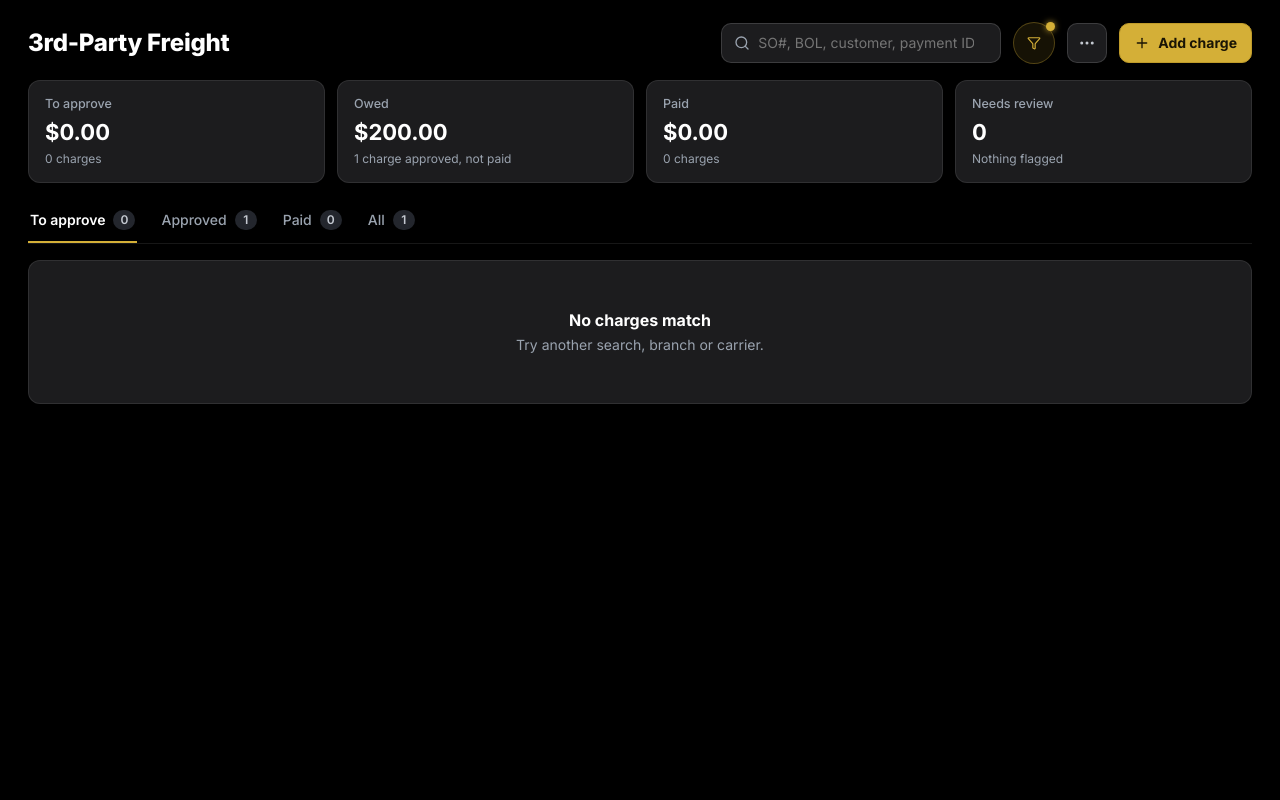
Scenario: 3rd-Party Freight list › shows the tab’s empty state once every branch is picked, and "No charges match" on the home branch
Expected: the heading "No charges match" is shown, [569,310,711,330]
Step 1. Click the button with class "lf-btn" → point(1034, 43), box [1013,22,1055,64]
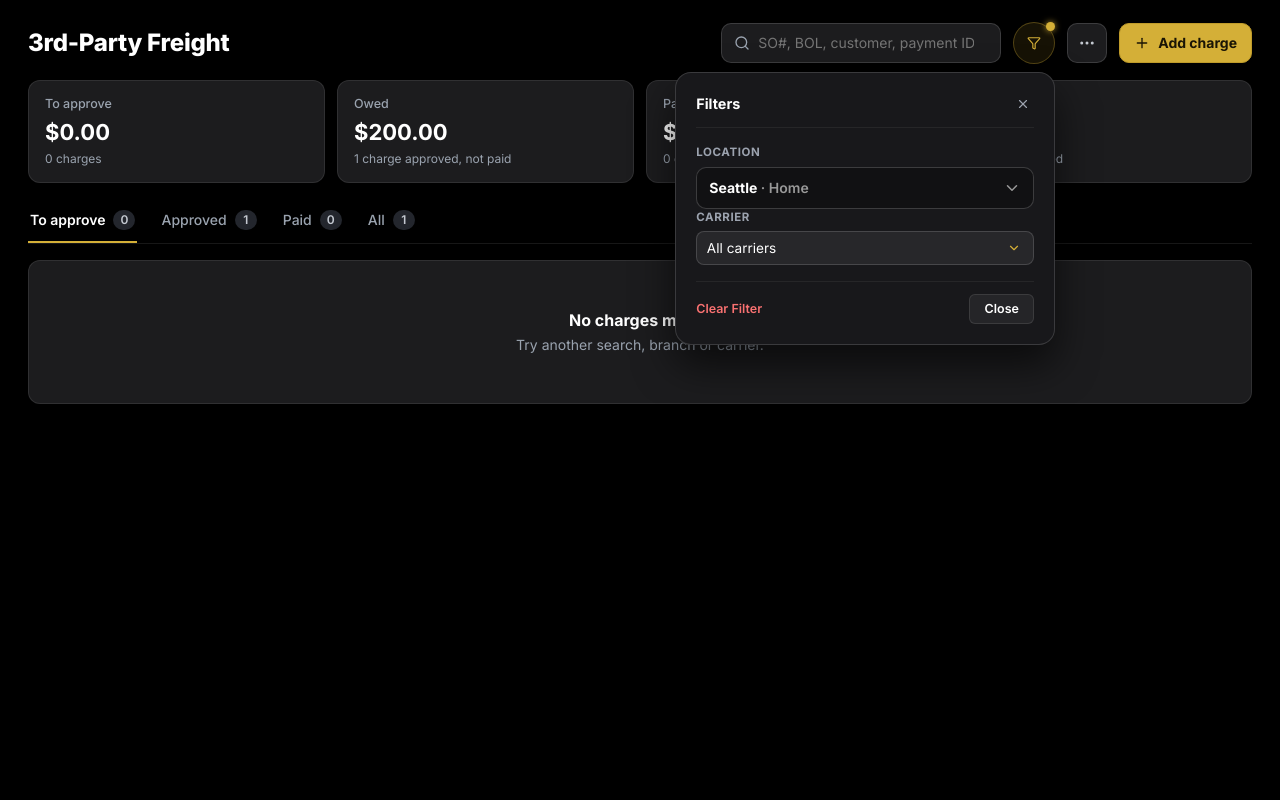
Step 2. Click the button with class "lf-clear" → point(729, 309), box [696,297,762,320]
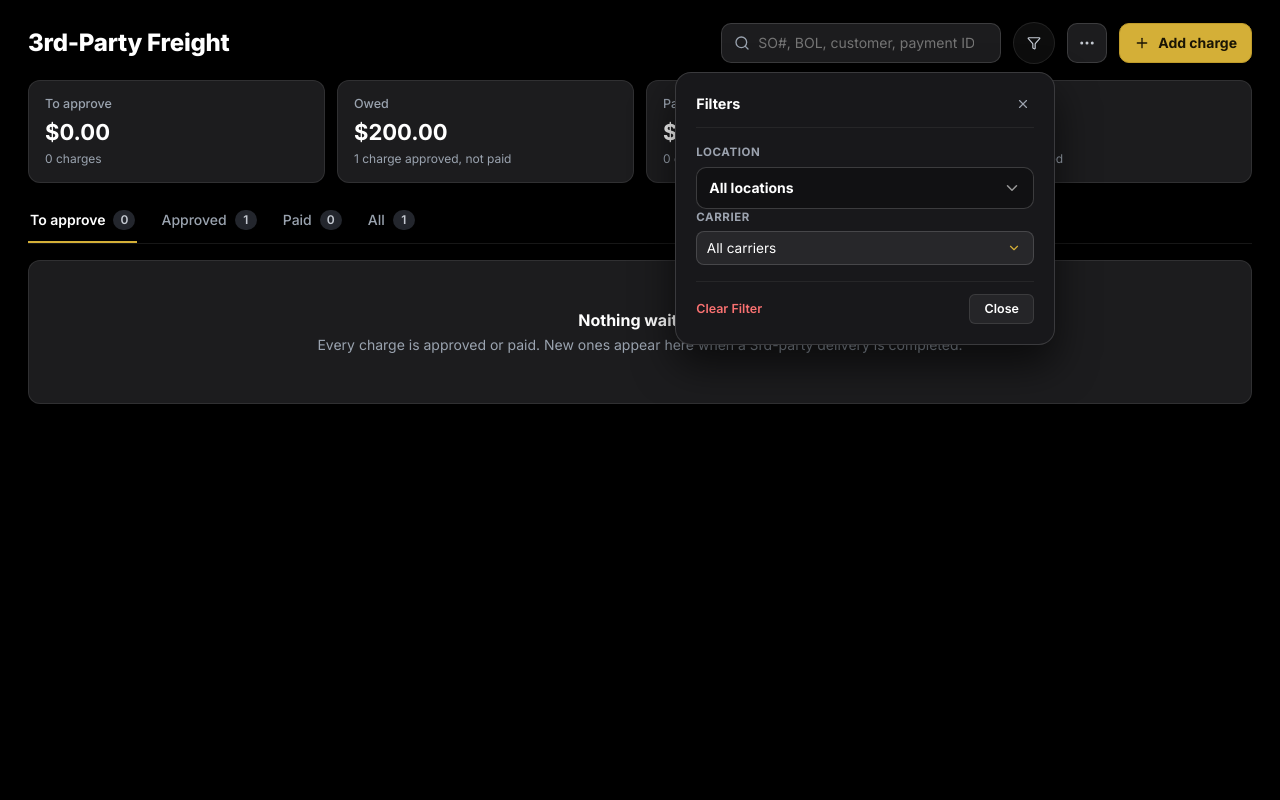
Expected: the heading "Nothing waiting" is shown, [578,310,702,330]
